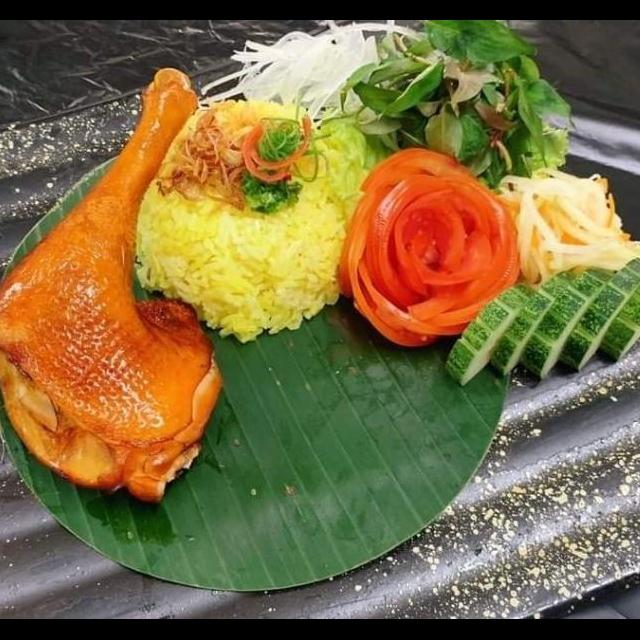com: (128, 95, 381, 346)
rau ram: (315, 22, 581, 196)
thit ga: (0, 63, 228, 510)
